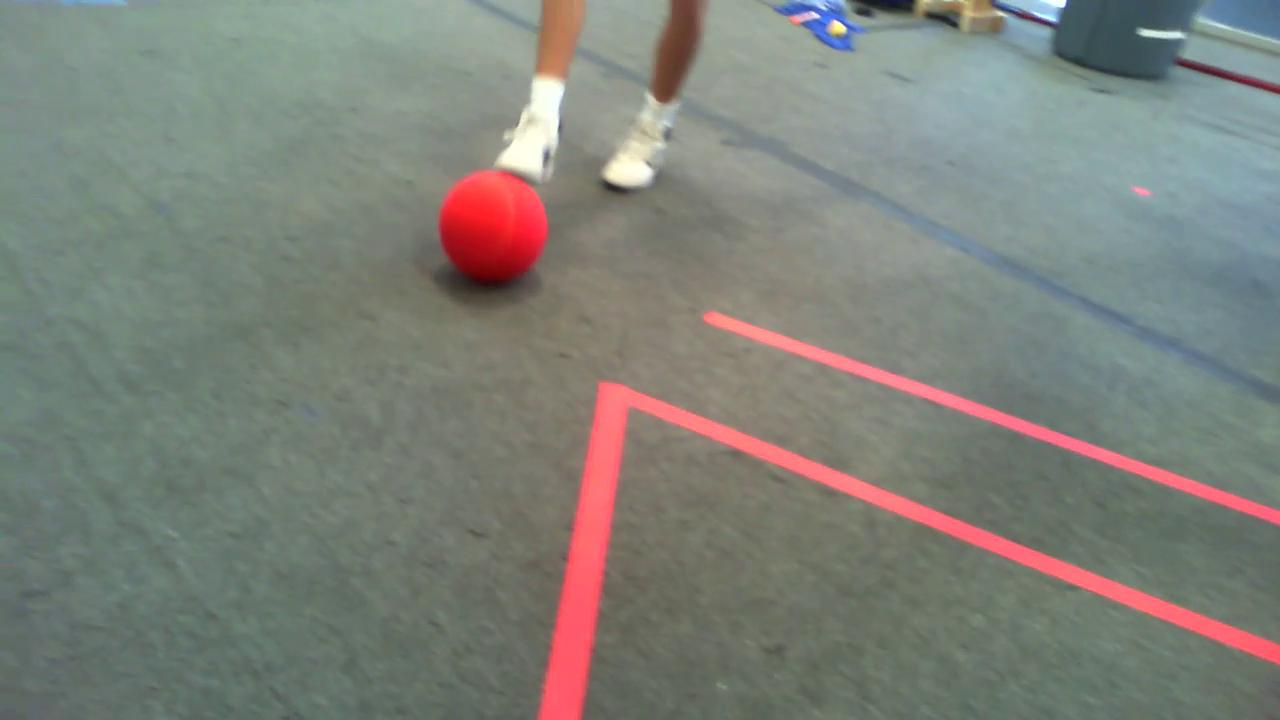Red_Ball: (423, 168, 551, 288)
